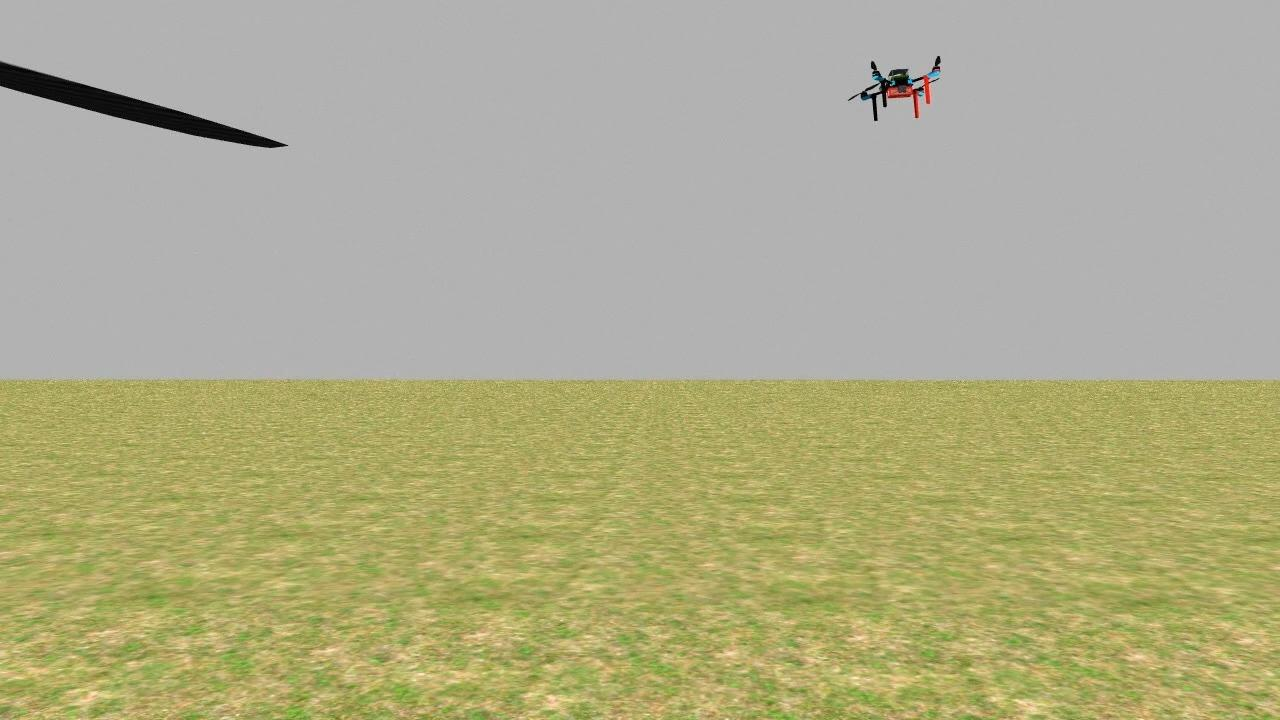UAV: (847, 55, 953, 124)
